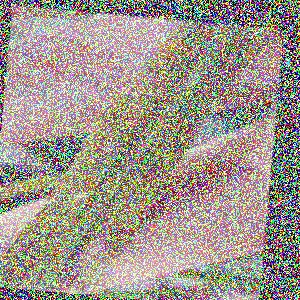Brown_Spot: (62, 219, 140, 285), (102, 106, 140, 137), (89, 128, 123, 161), (64, 187, 92, 220), (37, 188, 67, 212)
